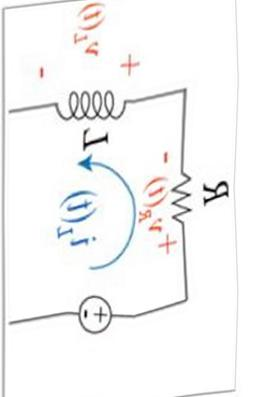Battery: (59, 279, 117, 340)
